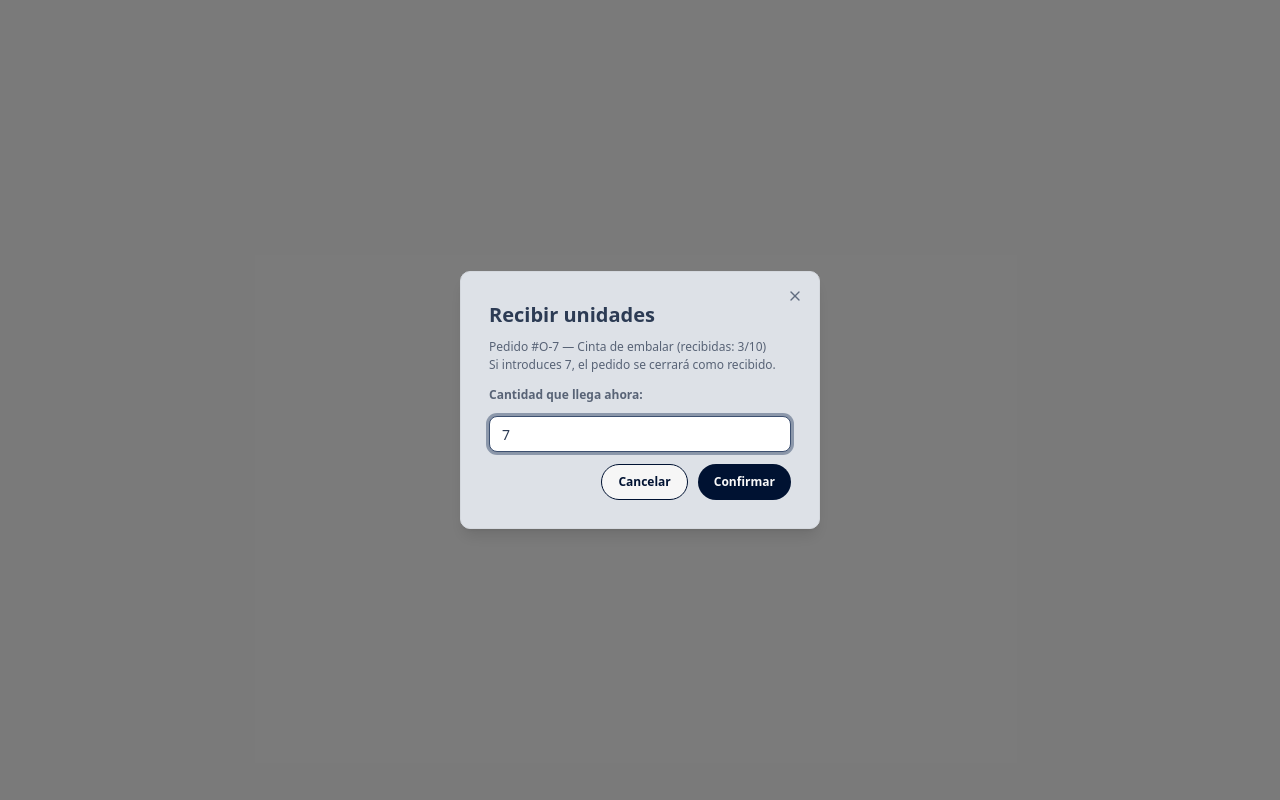
Test case: CantidadDialog (spec 4b §6, P6) › "Recibir unidades": mayor que 0 y sin pasar de lo pedido
Replace the text in the field labelled "Cantidad que llega ahora:" with "0": (640, 434) [489,416,791,452]
Then press Enter
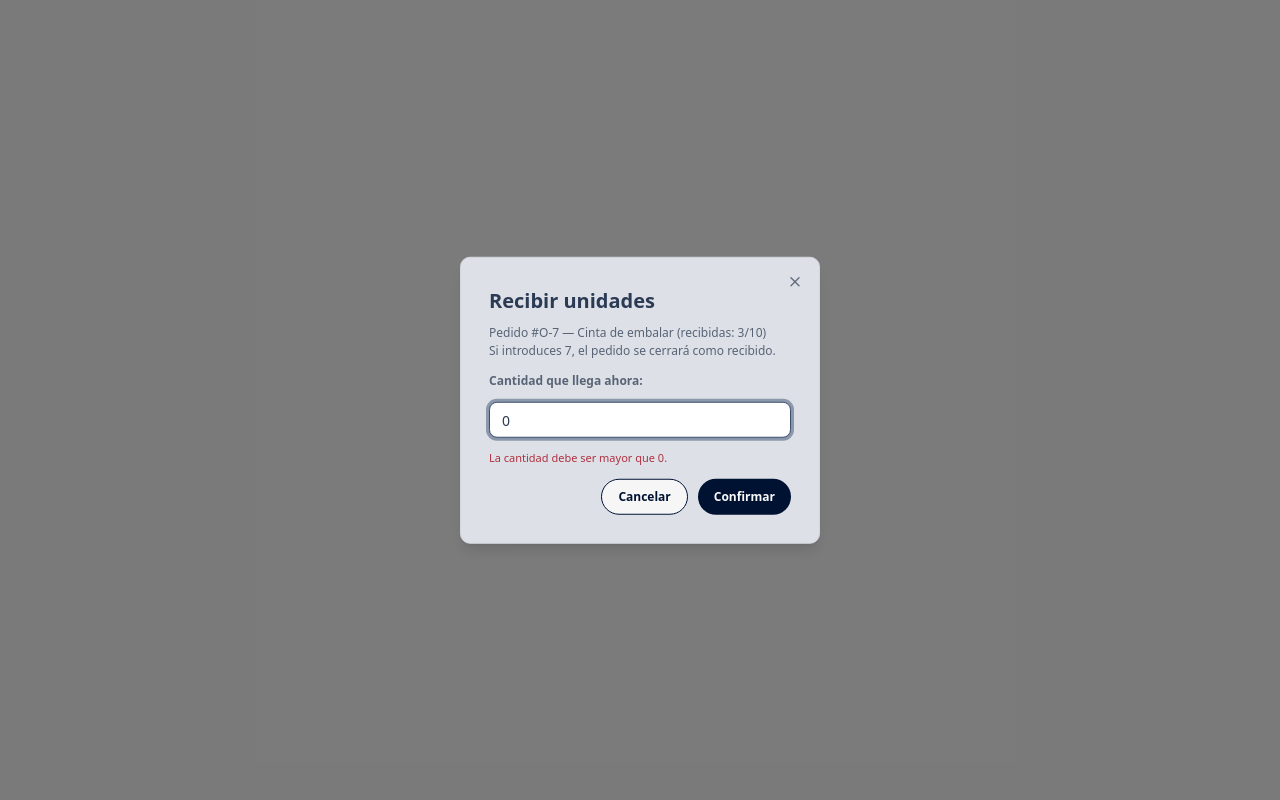
Expected: the message reads "La cantidad debe ser mayor que 0.", [489,450,667,465]
Replace the text in the field labelled "Cantidad que llega ahora:" with "8": (640, 420) [489,402,791,438]
Then press Enter
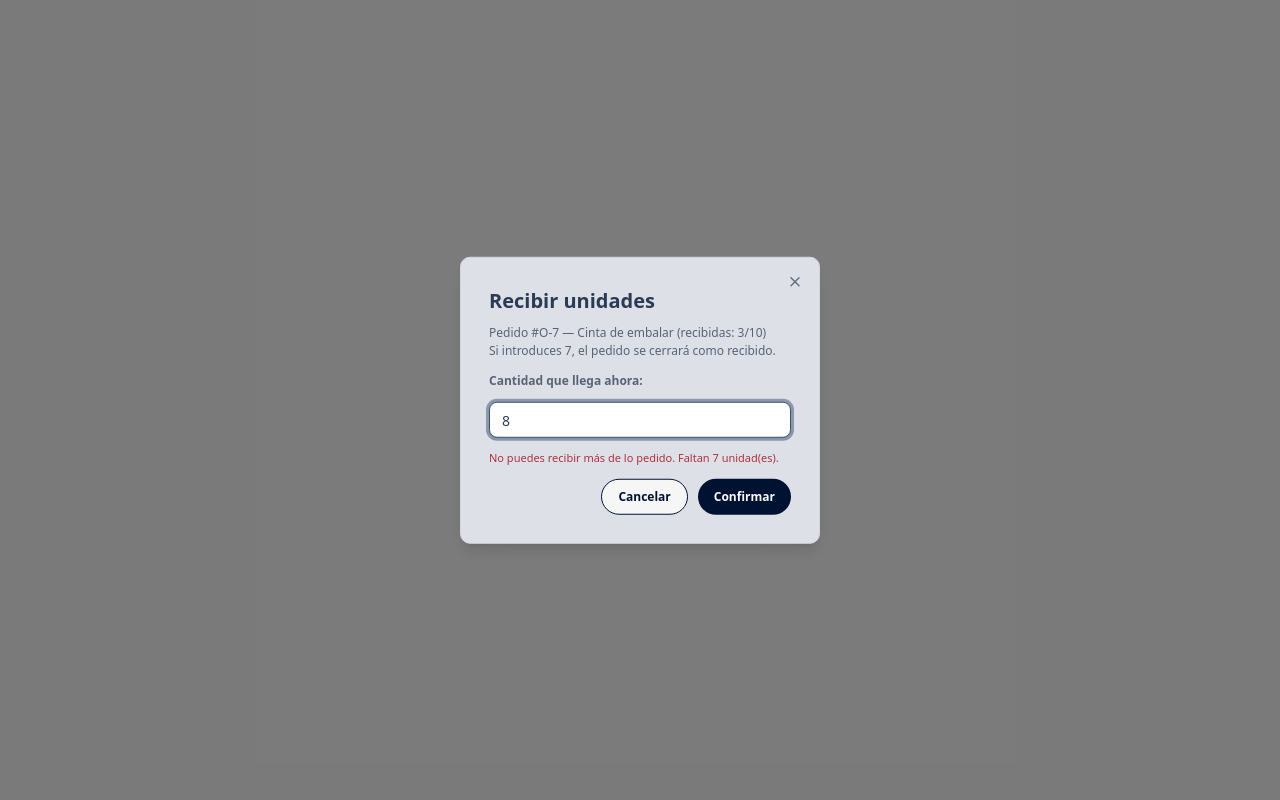
Expected: the message reads "No puedes recibir más de lo pedido. Faltan 7 unidad(es).", [489,450,779,465]
